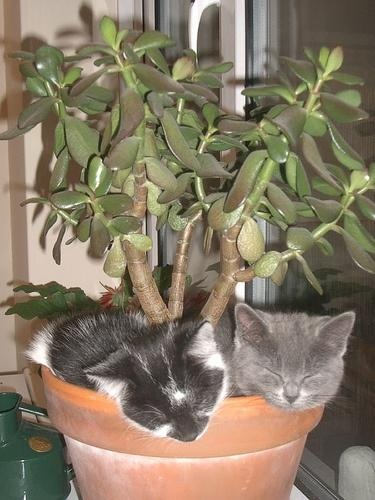cat: (25, 307, 235, 448), (213, 300, 361, 417)
pottedplant: (1, 10, 375, 500)
